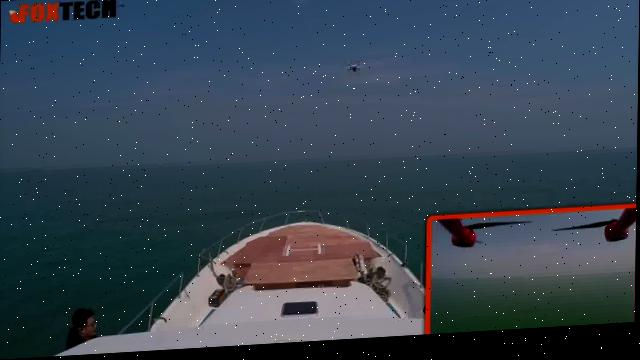drone: (338, 56, 372, 83)
